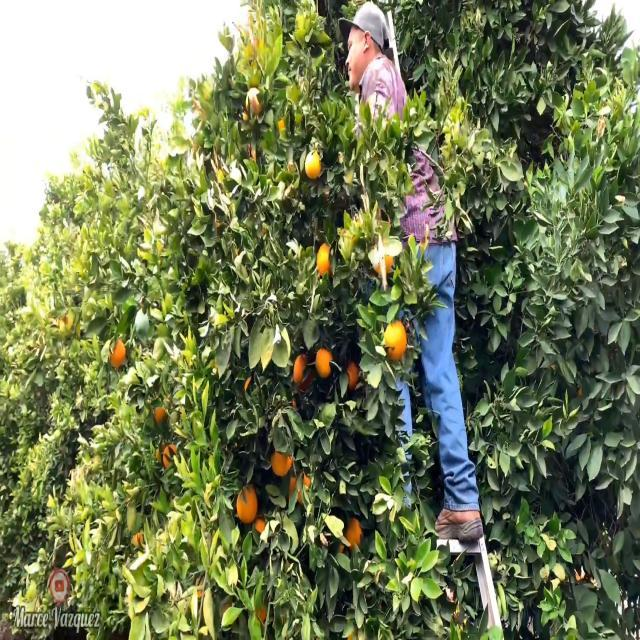Jeruk Sudah Matang: (382, 317, 412, 374), (312, 341, 341, 387), (268, 436, 296, 478), (290, 351, 316, 392), (234, 483, 258, 525), (316, 234, 336, 283), (304, 146, 326, 184), (109, 336, 128, 372)
